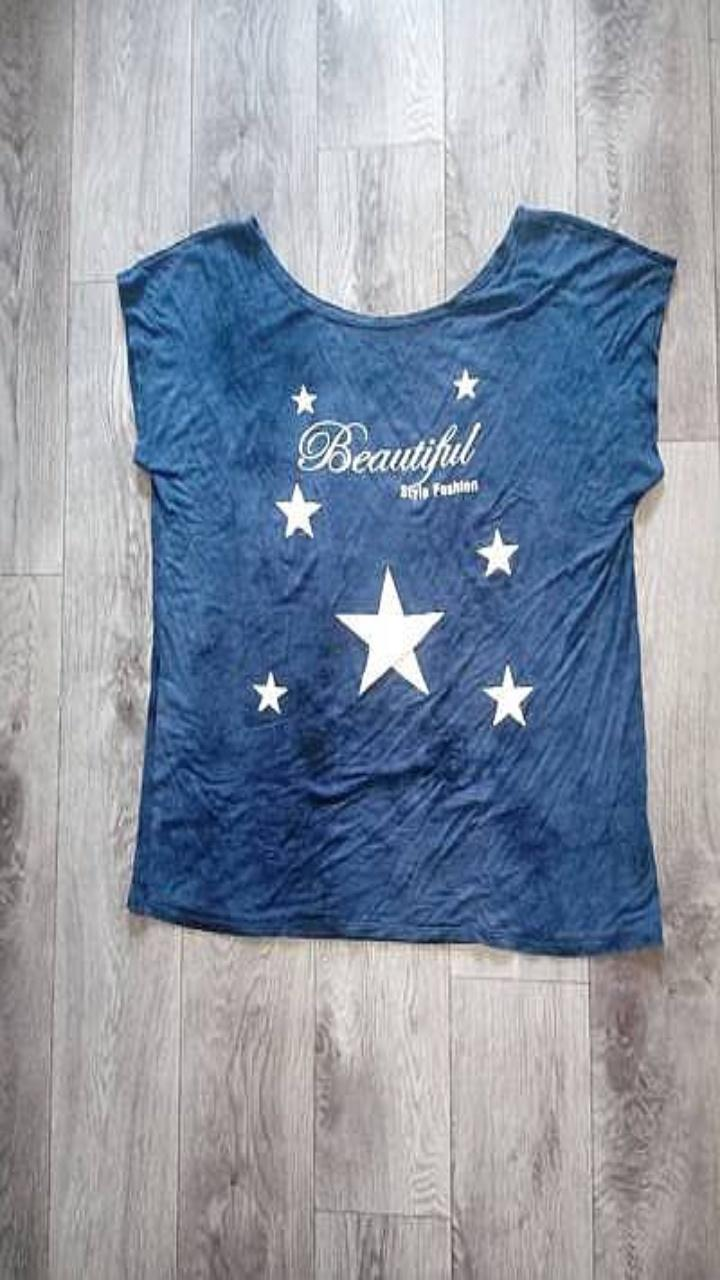T-Shirt: (117, 205, 676, 953)
